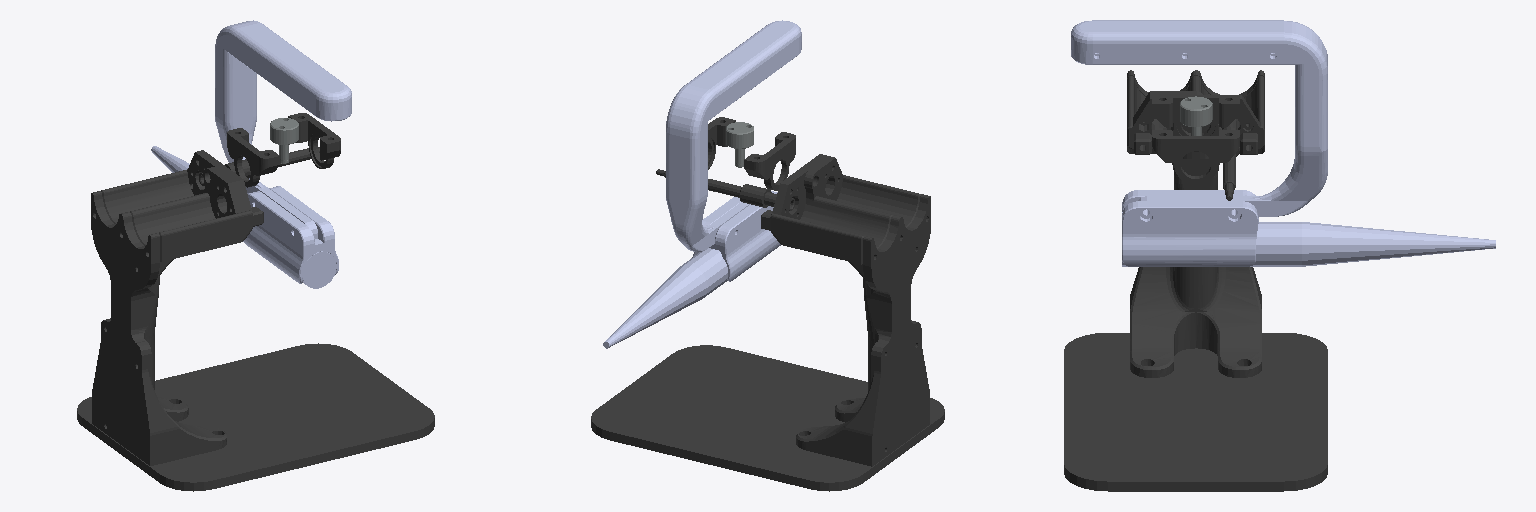
URDF robot description (collision_geometry):
<?xml version="1.0" encoding="utf-8"?>
<!-- This URDF was automatically created by SolidWorks to URDF Exporter! Originally created by [author] ([email redacted]) 
     Commit Version: 1.6.0-1-g15f4949  Build Version: 1.6.7594.29634
     For more information, please see http://wiki.ros.org/sw_urdf_exporter -->
<robot
  name="collision_geometry">
  <link
    name="base_link">
    <inertial>
      <origin
        xyz="0.047073 0.060347 0.049366"
        rpy="0 0 0" />
      <mass
        value="0.23153" />
      <inertia
        ixx="0.00030207"
        ixy="3.9809E-07"
        ixz="3.125E-06"
        iyy="0.00038414"
        iyz="9.7198E-08"
        izz="0.00037784" />
    </inertial>
    <visual>
      <origin
        xyz="0 0 0"
        rpy="0 0 0" />
      <geometry>
        <mesh
          filename="package://collision_geometry/meshes/base_link.STL" />
      </geometry>
      <material
        name="">
        <color
          rgba="0.29804 0.29804 0.29804 1" />
      </material>
    </visual>
    <collision>
      <origin
        xyz="0 0 0"
        rpy="0 0 0" />
      <geometry>
        <mesh
          filename="package://collision_geometry/meshes/base_link.STL" />
      </geometry>
    </collision>
  </link>
  <link
    name="pitch_link">
    <inertial>
      <origin
        xyz="6.0778E-11 0.0063557 1.3583E-09"
        rpy="0 0 0" />
      <mass
        value="0.0054988" />
      <inertia
        ixx="1.9103E-07"
        ixy="1.6034E-14"
        ixz="7.2936E-12"
        iyy="8.75E-07"
        iyz="-2.6183E-15"
        izz="9.7567E-07" />
    </inertial>
    <visual>
      <origin
        xyz="0 0 0"
        rpy="0 0 0" />
      <geometry>
        <mesh
          filename="package://collision_geometry/meshes/pitch_link.STL" />
      </geometry>
      <material
        name="">
        <color
          rgba="0.29804 0.29804 0.29804 1" />
      </material>
    </visual>
    <collision>
      <origin
        xyz="0 0 0"
        rpy="0 0 0" />
      <geometry>
        <mesh
          filename="package://collision_geometry/meshes/pitch_link.STL" />
      </geometry>
    </collision>
  </link>
  <joint
    name="pitch"
    type="revolute">
    <origin
      xyz="0.096806 0.060005 0.15025"
      rpy="1.5708 0 1.5708" />
    <parent
      link="base_link" />
    <child
      link="pitch_link" />
    <axis
      xyz="0 0 1" />
    <limit
      lower="0"
      upper="0"
      effort="0"
      velocity="0" />
  </joint>
  <link
    name="yaw_link">
    <inertial>
      <origin
        xyz="1.2435E-09 6.4153E-10 0.013844"
        rpy="0 0 0" />
      <mass
        value="0.013171" />
      <inertia
        ixx="4.677E-07"
        ixy="-1.4037E-08"
        ixz="-1.9025E-23"
        iyy="4.6474E-07"
        iyz="2.6983E-23"
        izz="3.2054E-07" />
    </inertial>
    <visual>
      <origin
        xyz="0 0 0"
        rpy="0 0 0" />
      <geometry>
        <mesh
          filename="package://collision_geometry/meshes/yaw_link.STL" />
      </geometry>
      <material
        name="">
        <color
          rgba="0.52941 0.54902 0.54902 1" />
      </material>
    </visual>
    <collision>
      <origin
        xyz="0 0 0"
        rpy="0 0 0" />
      <geometry>
        <mesh
          filename="package://collision_geometry/meshes/yaw_link.STL" />
      </geometry>
    </collision>
  </link>
  <joint
    name="yaw"
    type="revolute">
    <origin
      xyz="0 0 0"
      rpy="-1.5708 0 0" />
    <parent
      link="pitch_link" />
    <child
      link="yaw_link" />
    <axis
      xyz="0 0 -1" />
    <limit
      lower="0"
      upper="0"
      effort="0"
      velocity="0" />
  </joint>
  <link
    name="extension_link">
    <inertial>
      <origin
        xyz="-3.1381E-06 -0.042372 0.015059"
        rpy="0 0 0" />
      <mass
        value="0.10542" />
      <inertia
        ixx="0.00016355"
        ixy="-3.429E-08"
        ixz="-4.6793E-08"
        iyy="0.00012833"
        iyz="-2.1234E-05"
        izz="4.155E-05" />
    </inertial>
    <visual>
      <origin
        xyz="0 0 0"
        rpy="0 0 0" />
      <geometry>
        <mesh
          filename="package://collision_geometry/meshes/extension_link.STL" />
      </geometry>
      <material
        name="">
        <color
          rgba="0.79216 0.81961 0.93333 1" />
      </material>
    </visual>
    <collision>
      <origin
        xyz="0 0 0"
        rpy="0 0 0" />
      <geometry>
        <mesh
          filename="package://collision_geometry/meshes/extension_link.STL" />
      </geometry>
    </collision>
  </link>
  <joint
    name="extension"
    type="prismatic">
    <origin
      xyz="0 -0.0016148 -0.050079"
      rpy="-1.5708 0 -1.5708" />
    <parent
      link="yaw_link" />
    <child
      link="extension_link" />
    <axis
      xyz="0 0 1" />
    <limit
      lower="0"
      upper="0"
      effort="0"
      velocity="0" />
  </joint>
</robot>

--- Facts derived from the render (not from the file) ---
3 views of the same robot in one strip: view 1: azimuth 30°, elevation 25°; view 2: azimuth 150°, elevation 25°; view 3: azimuth 270°, elevation 25° (orthographic).
Model collision_geometry with 4 links and 3 joints (2 revolute, 1 prismatic), rooted at base_link, posed all joints at 0.
Visible links, largest first — view 1: base_link, extension_link, pitch_link, yaw_link; view 2: base_link, extension_link, pitch_link, yaw_link; view 3: base_link, extension_link, pitch_link, yaw_link.
Link boxes in pixels (x1=…): base_link: x1=77, y1=147, x2=434, y2=491; extension_link: x1=151, y1=20, x2=351, y2=288; pitch_link: x1=227, y1=113, x2=340, y2=187; yaw_link: x1=270, y1=118, x2=298, y2=163; base_link: x1=591, y1=154, x2=944, y2=491; extension_link: x1=603, y1=20, x2=801, y2=348; pitch_link: x1=708, y1=117, x2=795, y2=190; yaw_link: x1=726, y1=122, x2=753, y2=167; base_link: x1=1064, y1=70, x2=1327, y2=491; extension_link: x1=1071, y1=20, x2=1495, y2=266; pitch_link: x1=1152, y1=95, x2=1239, y2=184; yaw_link: x1=1180, y1=96, x2=1212, y2=135.
Bounding box of the posed robot: 0.16 × 0.1963 × 0.2042 m (x, y, z).
Meshes: 4 distinct files referenced, 4 mesh visuals loaded (4 binary STL).